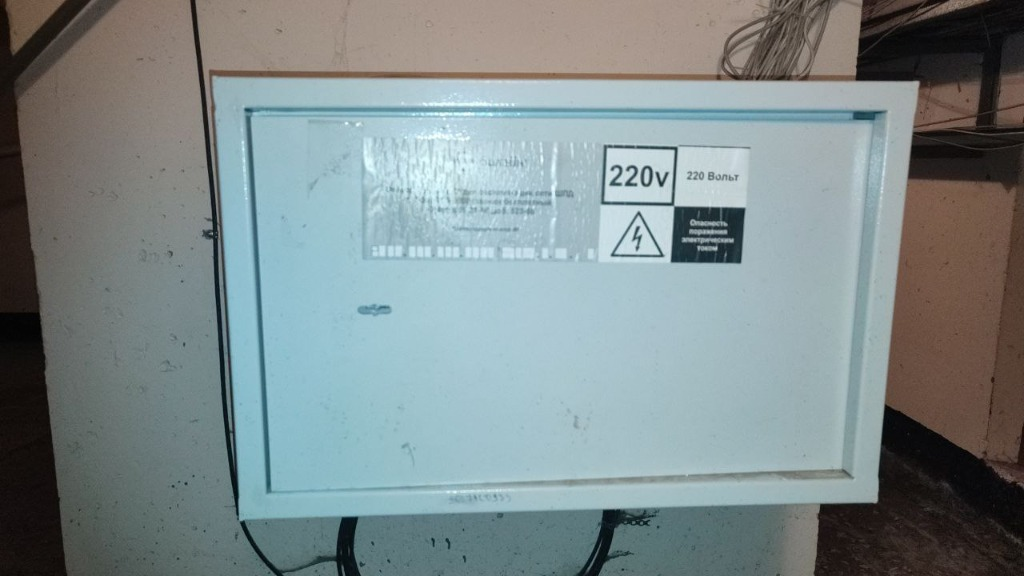shta-7m: (203, 64, 923, 526)
